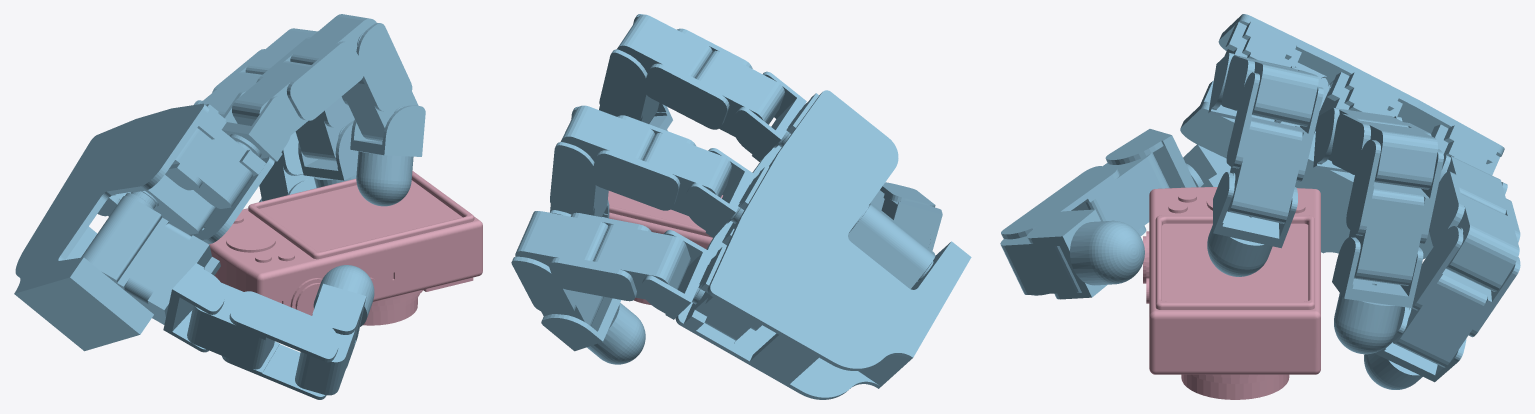
The picture shows the model from 3 angles, left to right: view 1: azimuth 30°, elevation 25°; view 2: azimuth 150°, elevation 25°; view 3: azimuth 270°, elevation 25°; orthographic projection. The views are drawn at different scales.
Parts seen in each view (by area): view 1: world; view 2: world; view 3: world.
Boxes of the visible parts, left/top/right/bottom form: world: left=14, top=14, right=482, bottom=399; world: left=511, top=14, right=971, bottom=399; world: left=1000, top=14, right=1520, bottom=399.
Size of the model in its own units: 0.1888 by 0.1407 by 0.196.
